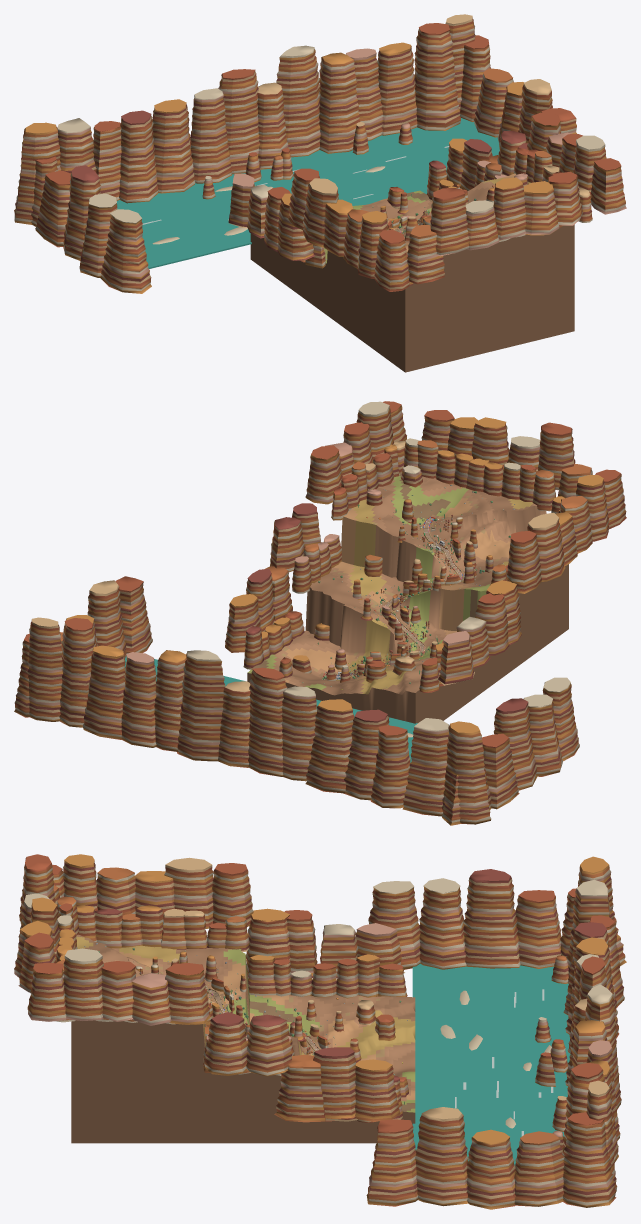
3 renders of one model, top to bottom at view 1: azimuth 30°, elevation 25°; view 2: azimuth 150°, elevation 25°; view 3: azimuth 270°, elevation 25°, orthographic. The views are drawn at different scales.
Parts seen in each view (by area): view 1: theme, grass, buildings; view 2: theme, grass, buildings; view 3: theme, grass, buildings.
Part boxes in pixels (box(x1,y1,x2,y2)): theme: box(14, 14, 626, 293); grass: box(250, 173, 574, 372); buildings: box(380, 173, 528, 240); theme: box(14, 401, 626, 825); grass: box(247, 472, 568, 723); buildings: box(279, 465, 493, 682); theme: box(14, 854, 626, 1209); grass: box(71, 934, 415, 1143); buildings: box(136, 951, 408, 1097).
Bounding box in the file's own units: 714 × 259 × 704.
